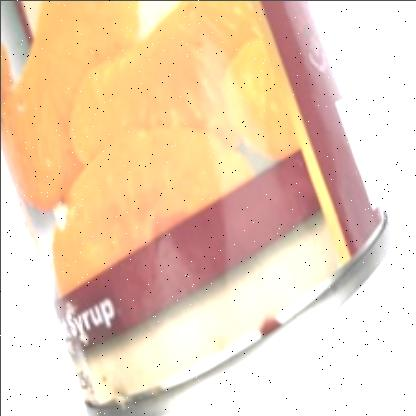Can: (0, 0, 395, 416)
